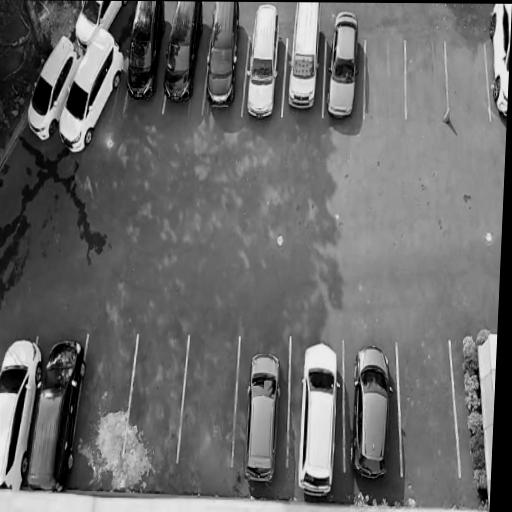Car: (51, 21, 129, 164), (22, 333, 89, 494), (293, 337, 345, 501), (16, 29, 85, 146), (0, 329, 47, 494), (347, 340, 398, 484), (237, 347, 286, 489), (242, 2, 283, 124), (284, 2, 326, 115), (160, 1, 203, 108), (122, 1, 166, 102), (324, 7, 362, 123), (202, 2, 241, 112), (69, 1, 128, 54), (486, 4, 512, 122)
Space Available: (397, 340, 460, 477), (122, 334, 189, 459), (177, 336, 240, 467), (72, 333, 138, 455), (446, 41, 489, 118), (406, 42, 449, 117), (364, 41, 405, 119)
